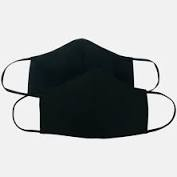cloth_mask: (14, 67, 177, 140)
